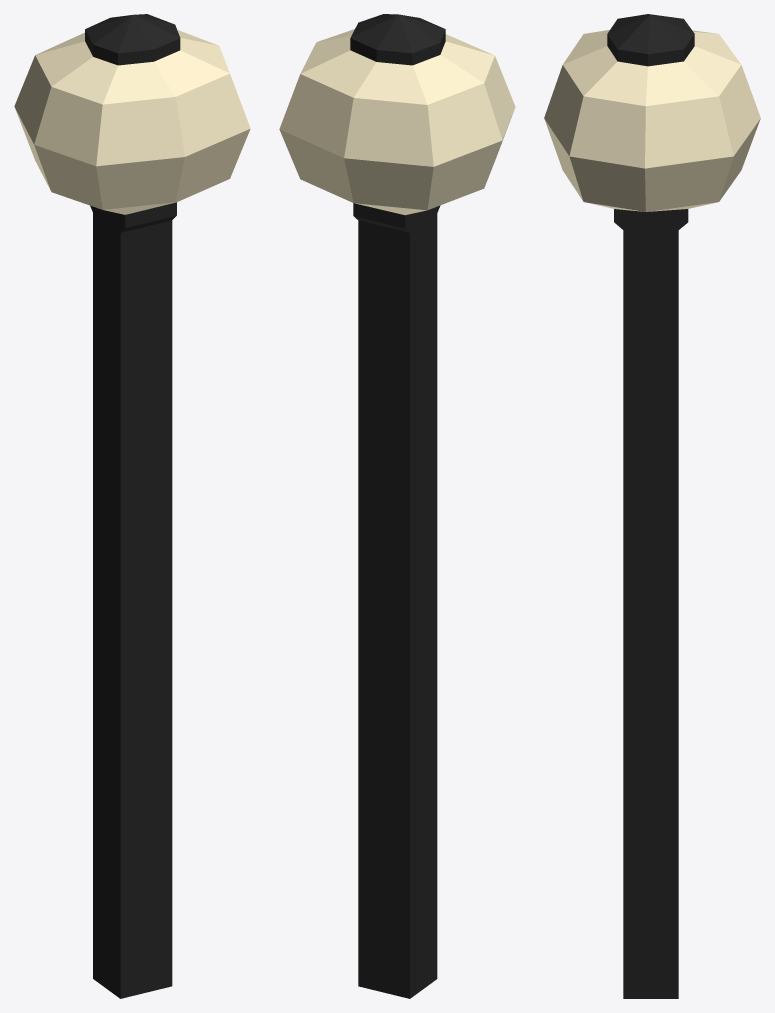
File: lampadaire2.FBX
The picture shows the model from 3 angles, left to right: view 1: azimuth 30°, elevation 25°; view 2: azimuth 150°, elevation 25°; view 3: azimuth 270°, elevation 25°; orthographic projection.
Parts seen in each view (by area): view 1: lampadaire_1; view 2: lampadaire_1; view 3: lampadaire_1.
Part boxes in pixels (x1,y1,x2,y2): lampadaire_1: (14, 14, 250, 998); lampadaire_1: (279, 14, 515, 998); lampadaire_1: (544, 14, 760, 998).
Size of the model in its own units: 1.94 by 8.81 by 1.78.
